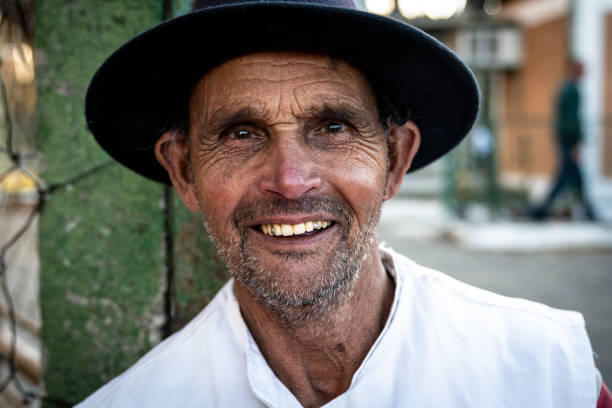face: (199, 77, 384, 309)
